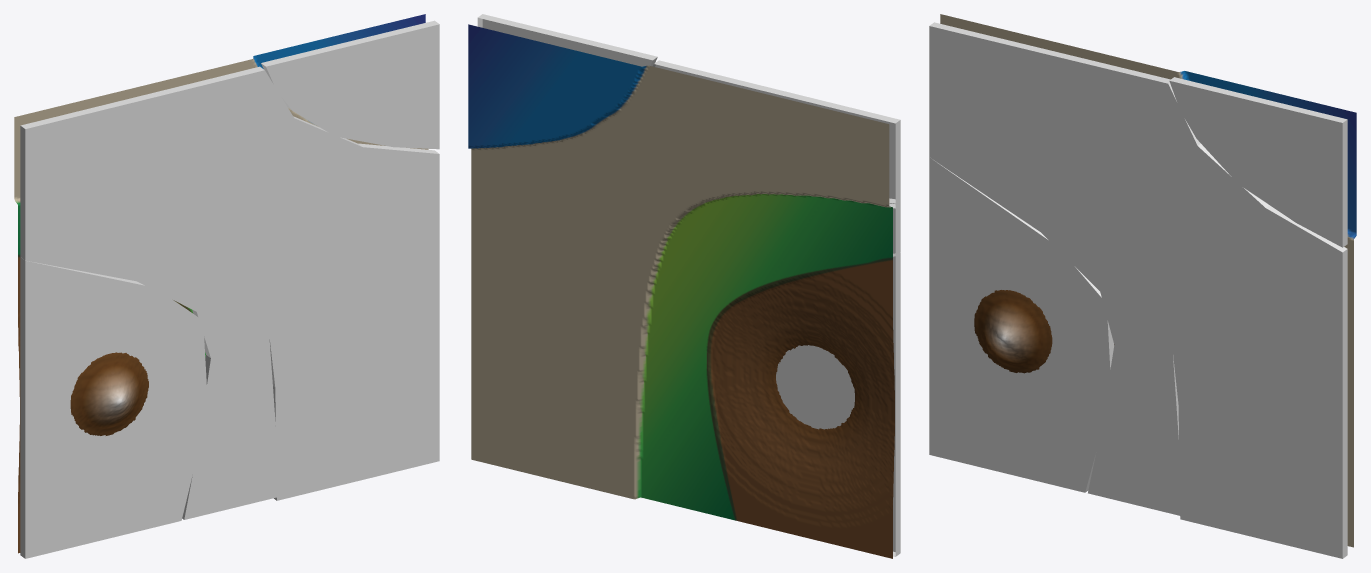
The model's file is Tile01.FBX.
3 views of the same model, side by side, from view 1: azimuth 30°, elevation 25°; view 2: azimuth 150°, elevation 25°; view 3: azimuth 330°, elevation 25° (orthographic).
Parts seen in each view (by area): view 1: Plane004, Plane002, Plane003, Plane005, Plane001; view 2: Plane001, Plane002, Plane004, Plane005; view 3: Plane004, Plane002, Plane003, Plane005, Plane001.
Part boxes in pixels (left/top/right/bottom): Plane004: left=20, top=66, right=439, bottom=500; Plane002: left=20, top=257, right=208, bottom=558; Plane003: left=20, top=196, right=277, bottom=519; Plane005: left=261, top=20, right=439, bottom=149; Plane001: left=14, top=14, right=428, bottom=553; Plane001: left=468, top=24, right=894, bottom=558; Plane002: left=776, top=252, right=900, bottom=556; Plane004: left=639, top=60, right=900, bottom=498; Plane005: left=477, top=14, right=657, bottom=66; Plane004: left=929, top=22, right=1347, bottom=558; Plane002: left=929, top=157, right=1114, bottom=492; Plane003: left=929, top=105, right=1180, bottom=515; Plane005: left=1169, top=77, right=1347, bottom=247; Plane001: left=940, top=14, right=1356, bottom=547.
Bounding box in the file's own units: 480 × 484 × 49.8.
1 material, 1 textured.
